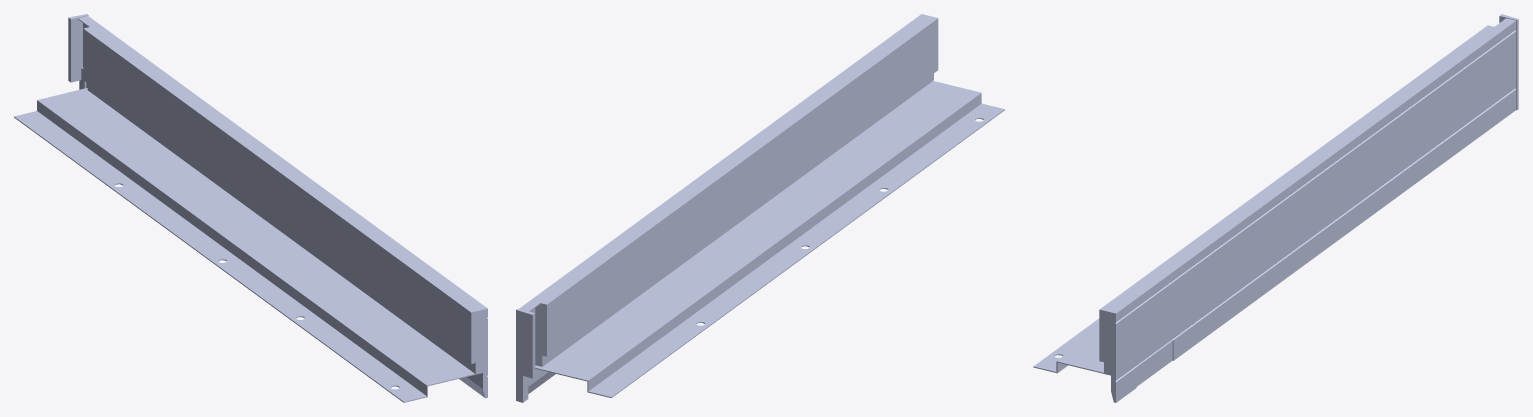
The model's file is lg-kava-N550-m.glb.
The picture shows the model from 3 angles, left to right: view 1: azimuth 30°, elevation 25°; view 2: azimuth 150°, elevation 25°; view 3: azimuth 330°, elevation 25°; orthographic projection.
Visible parts, largest first — view 1: 43033733; view 2: 43033733; view 3: 43033733.
Boxes of the visible parts, x1,y1,x2,y2 form: 43033733: (14,14,487,402); 43033733: (516,14,1004,402); 43033733: (1033,14,1518,402).
Size of the model in its own units: 0.0653 by 0.0672 by 0.5435.
